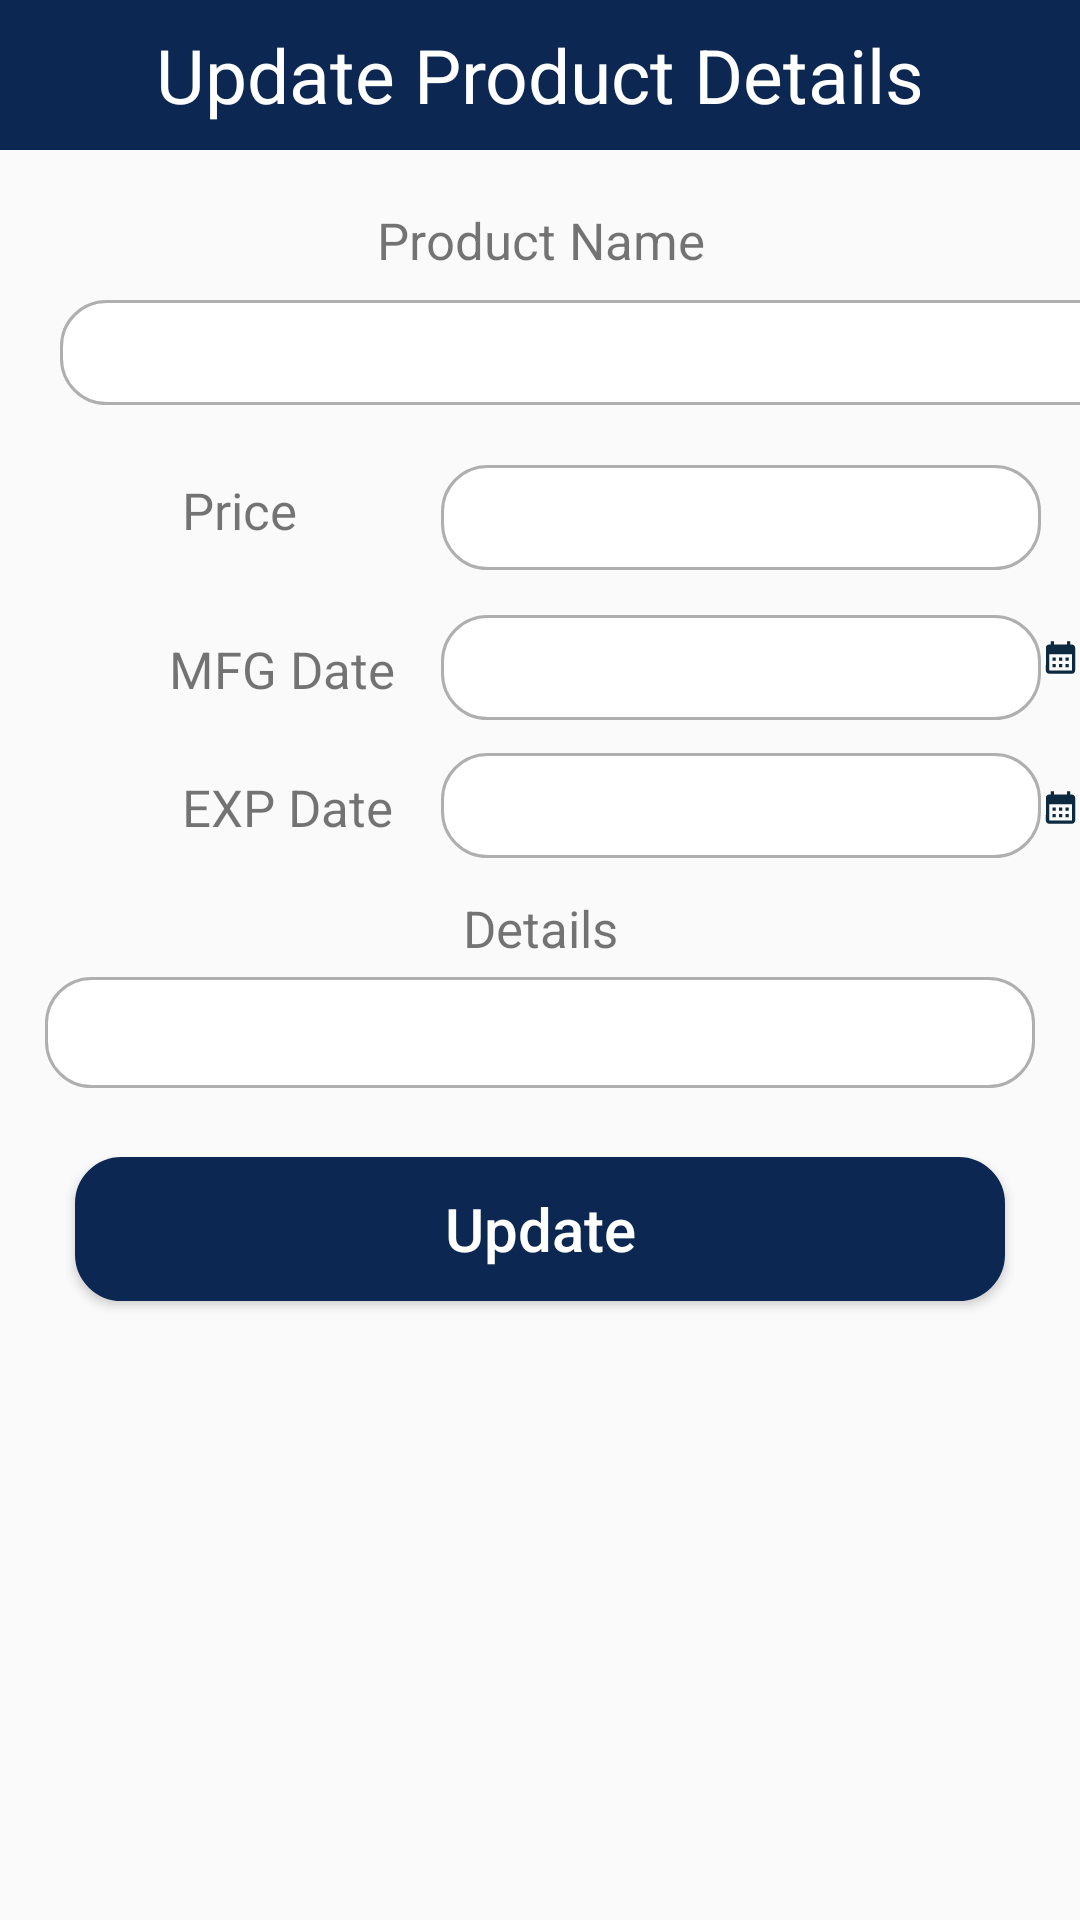

Named icons in this screenshot (1080w x 1920h) and their bounding boxes, BBox(x1, y1, x2, y2):
calendar month: BBox(1045, 641, 1076, 674), BBox(1045, 791, 1076, 824)
